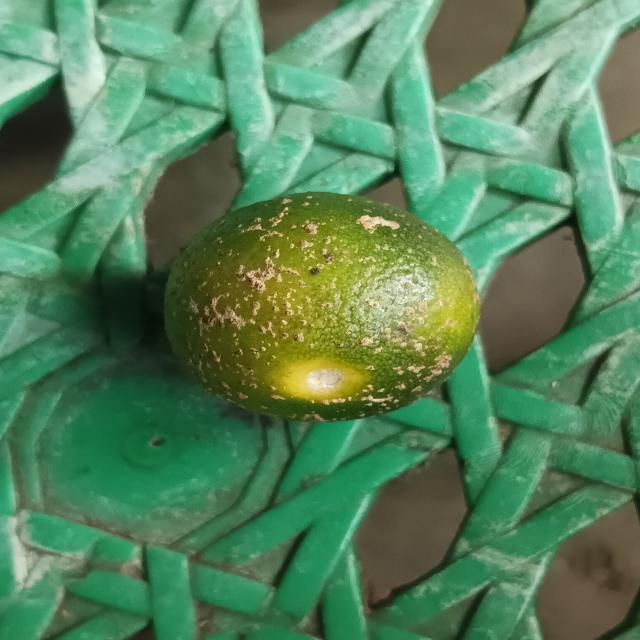scab: (156, 191, 487, 429)
